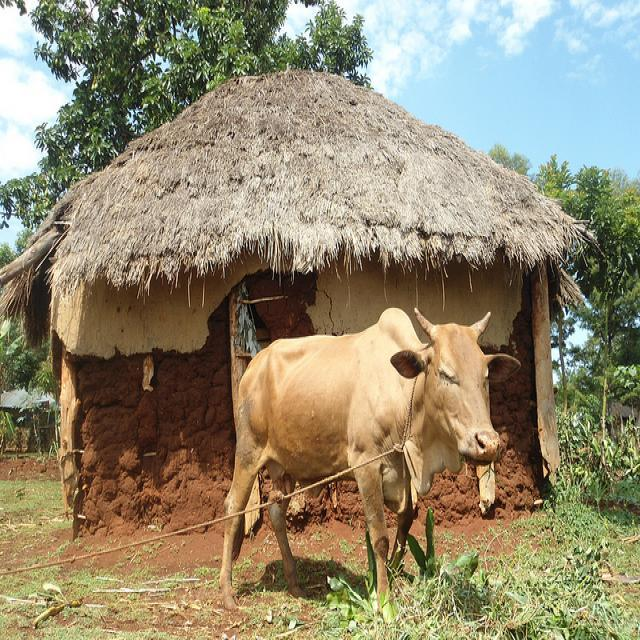cow: (220, 301, 501, 611)
